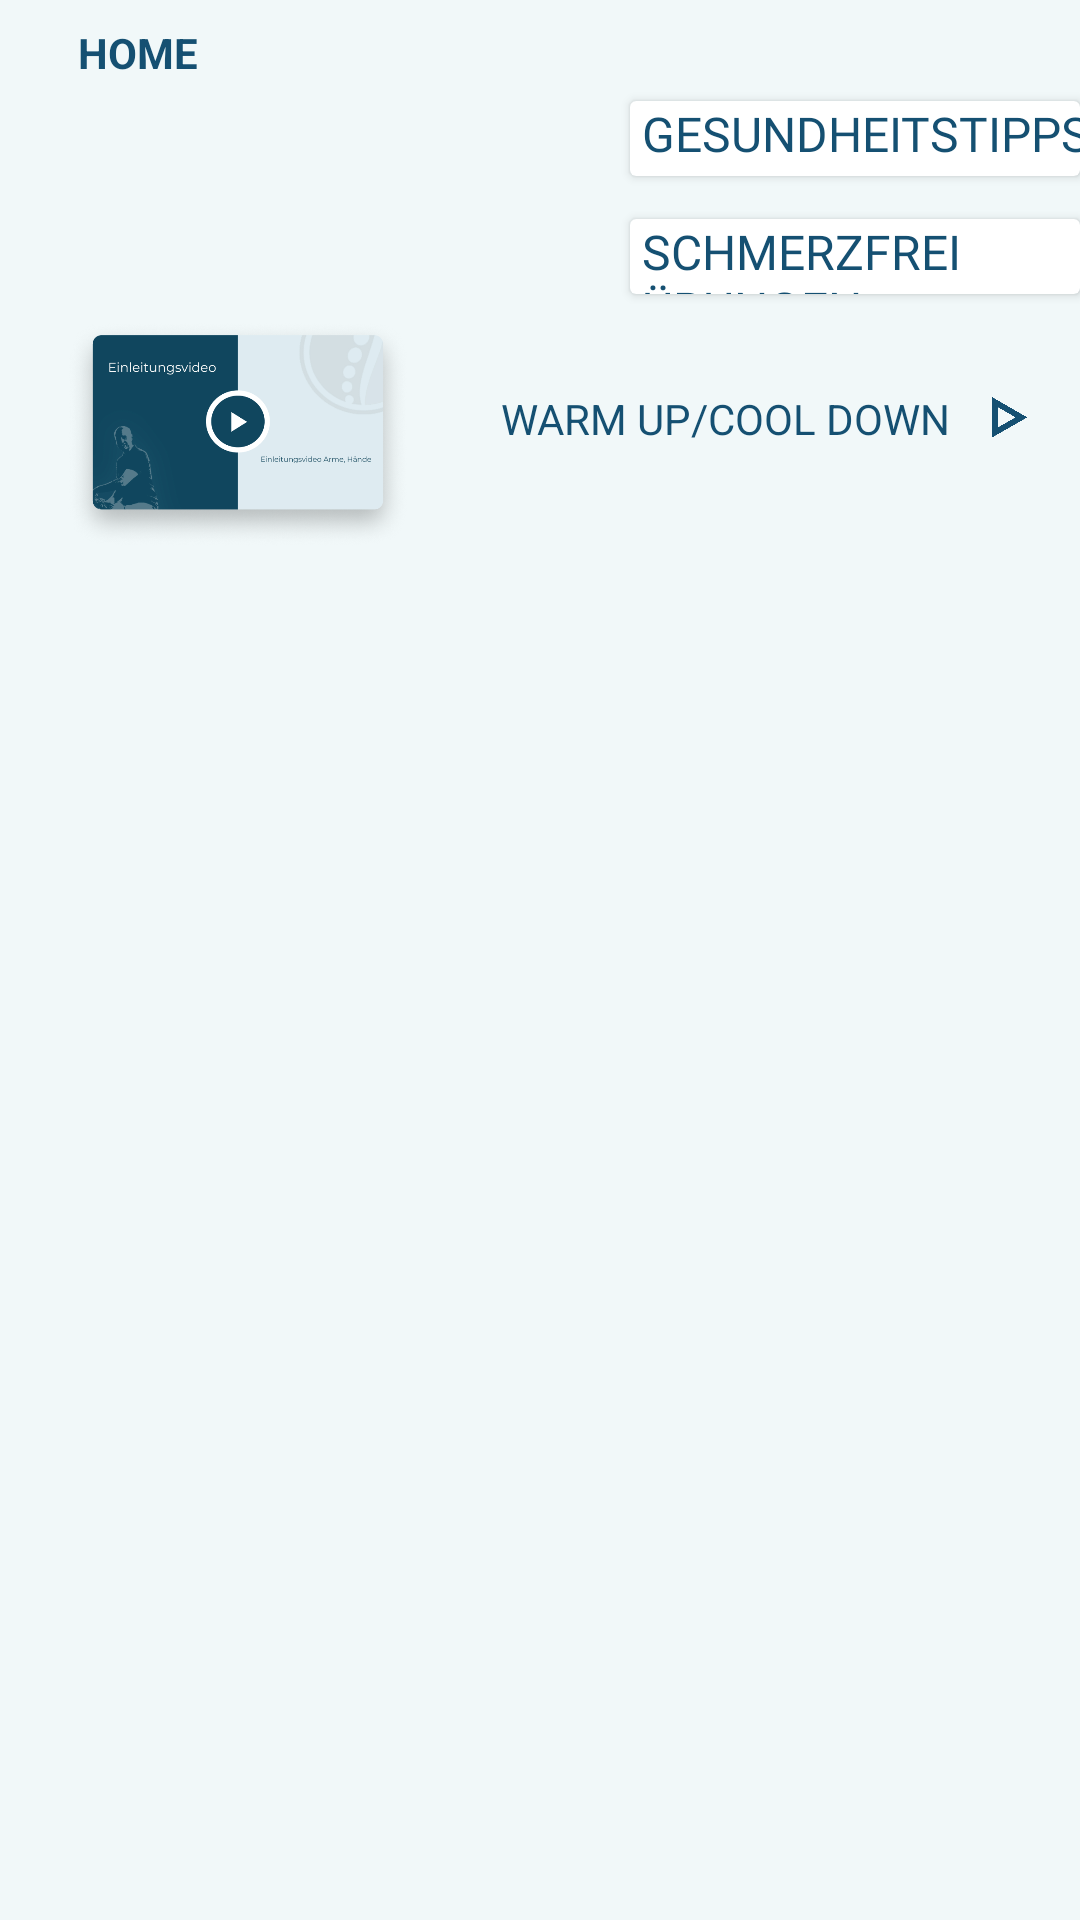

Locate icon controls on the screen. Image size 1080 × 1920, boxes as (x1, y1, x2, y2).
pfeil: (992, 397, 1027, 437)
